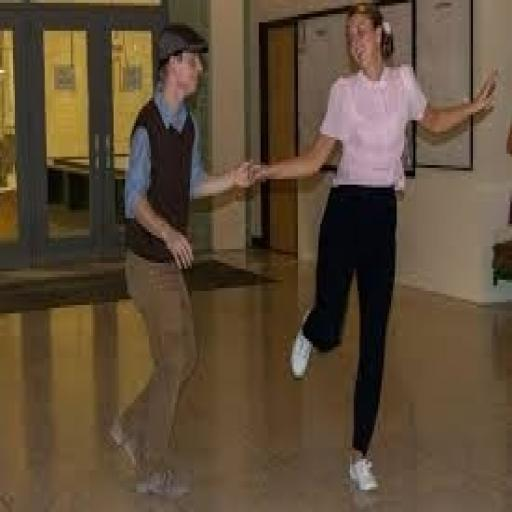dancing: (240, 3, 501, 495), (102, 20, 259, 500)
